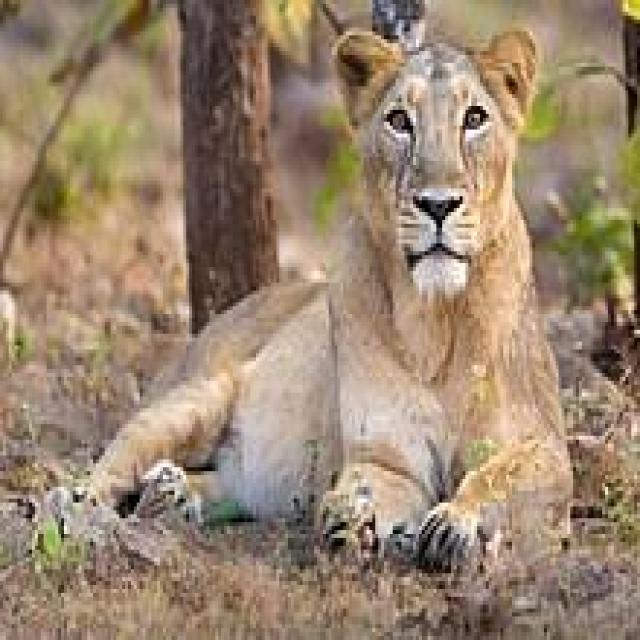Lion: (90, 29, 575, 578)
